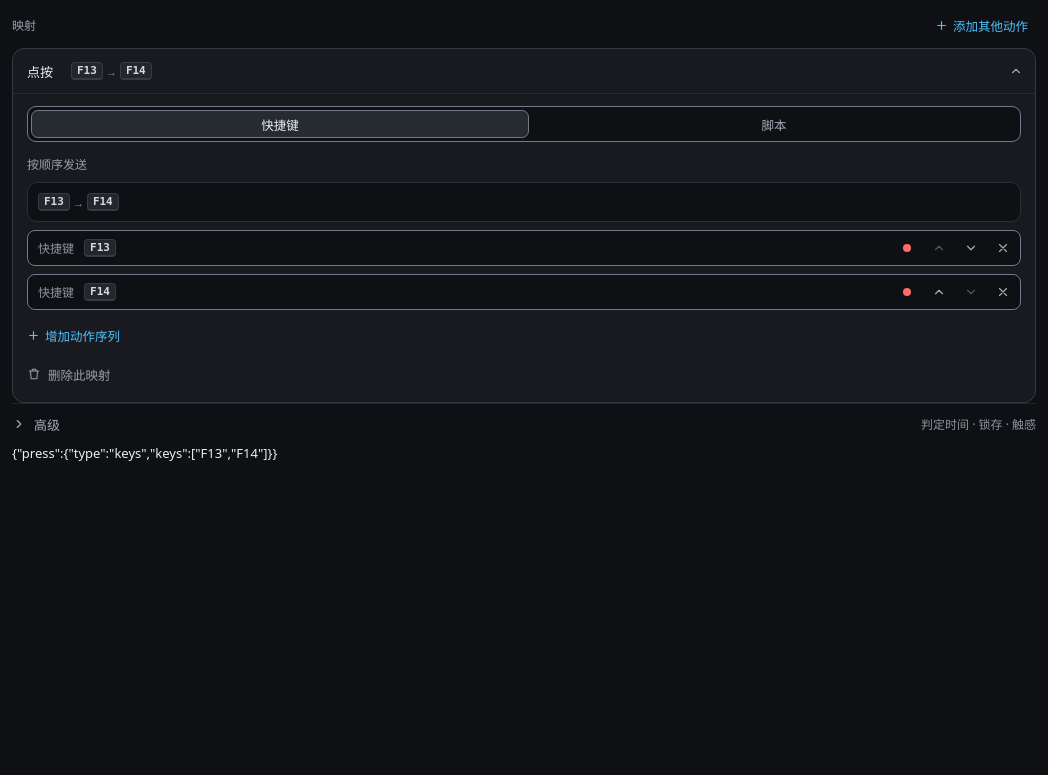
Test case: uses the key position option for sequence steps and only for shortcuts
Click the heading "高级 判定时间 · 锁存 · 触感". click: (979, 424)
box: [12,416,1036,434]
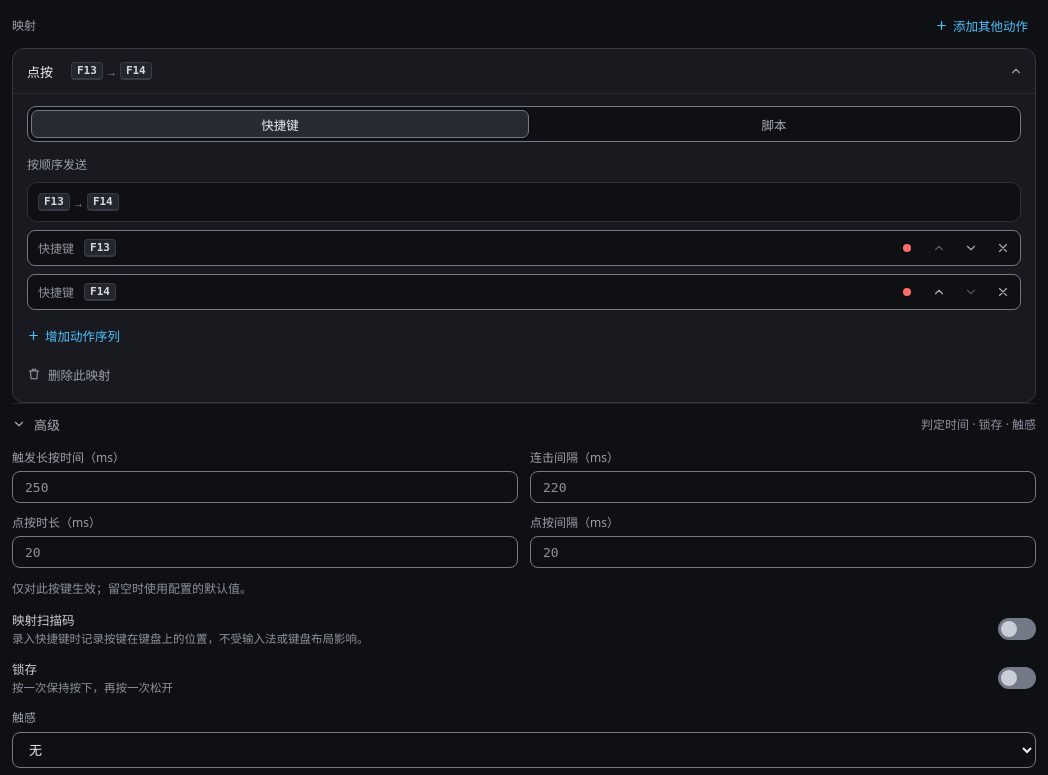
Click the switch named "映射扫描码". click: (1017, 628)
box: [998,618,1036,640]
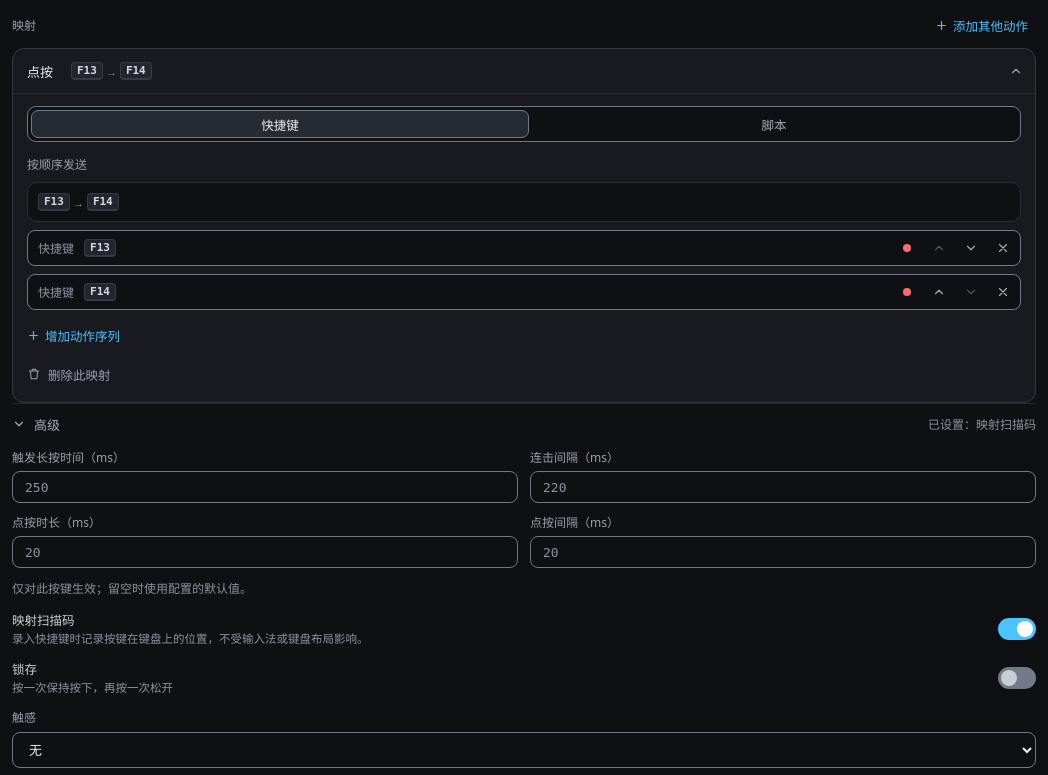
Click the button named "录入第 2 步". click: (907, 292)
box: [892,277,922,307]
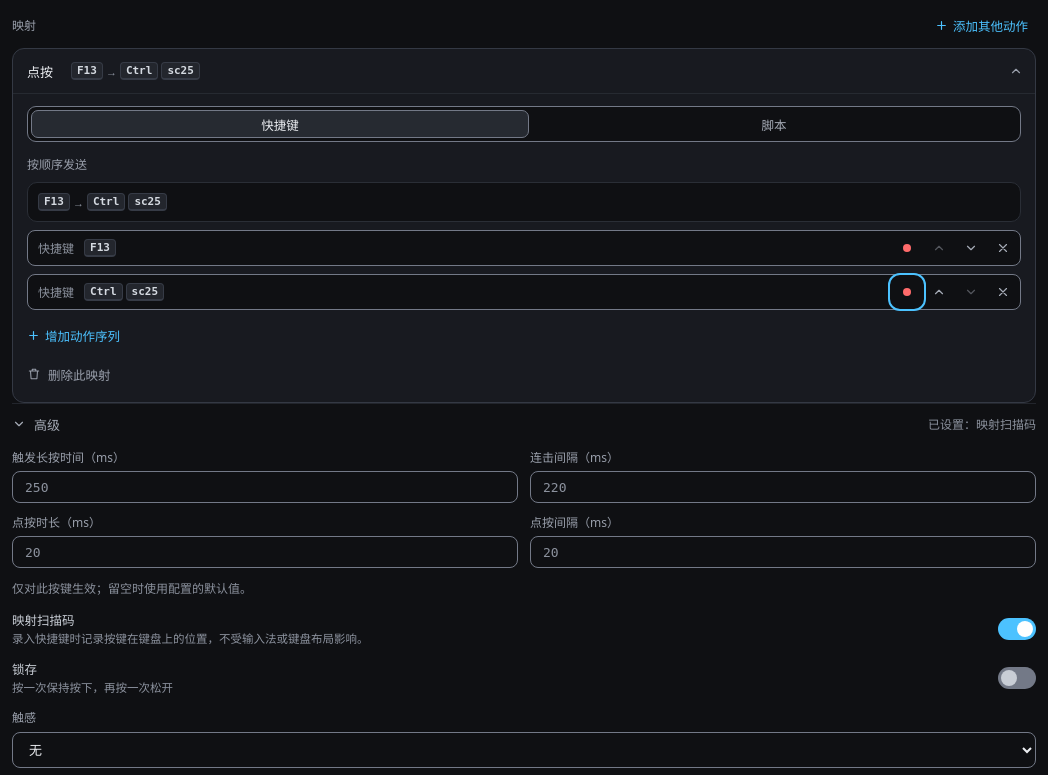
# A script has no shortcut to capture.
Click the radio button labelled "脚本". click: (774, 124)
box: [531,110,1017,138]
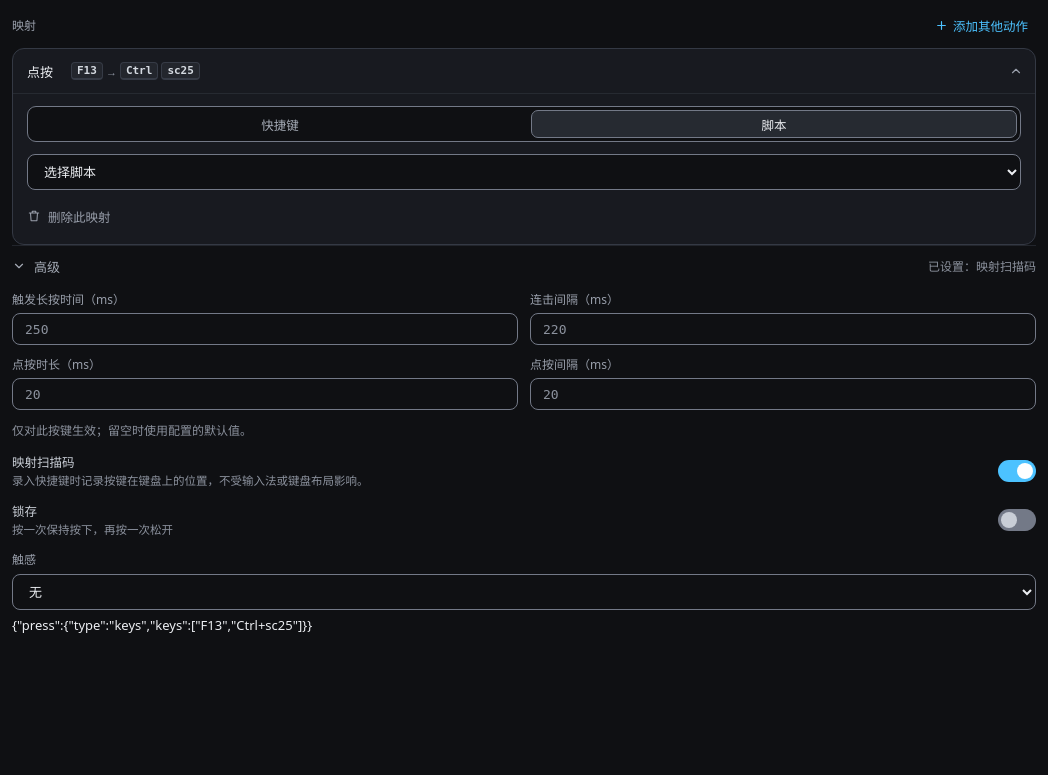
Select "复制全部" in the dropdown named "选择脚本". click: (524, 172)
box: [27,154,1021,190]
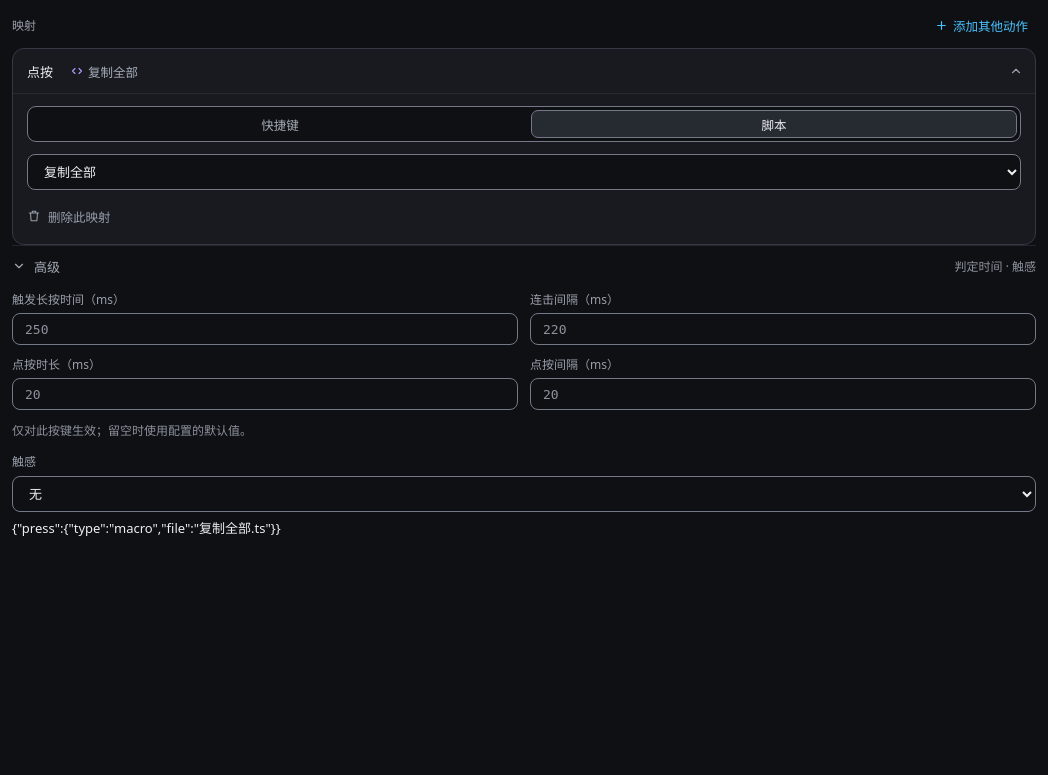
Now the heading "映射扫描码" is gone
